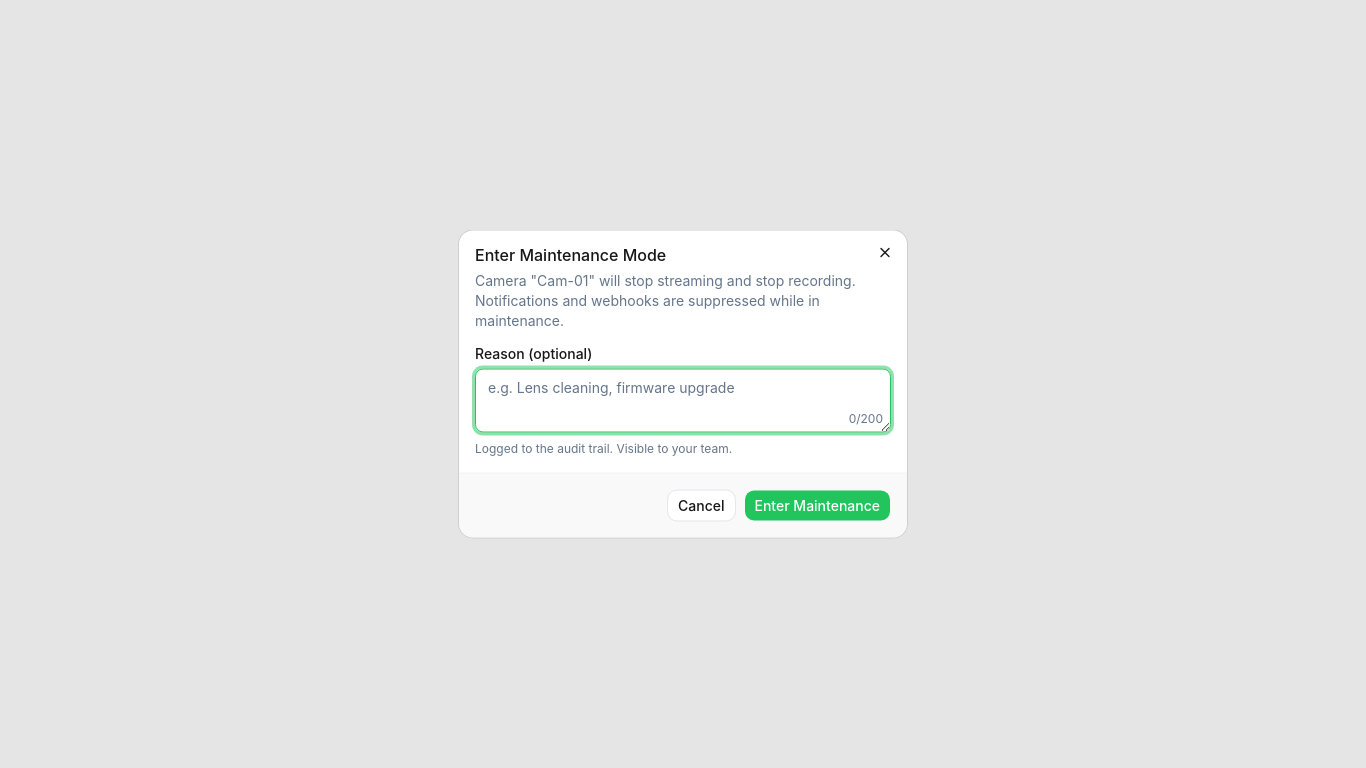
Scenario: MaintenanceReasonDialog — textarea + counter › counter reads '5/200' after typing 'hello'
The image size is (1366, 768).
Type "hello" into the text box labelled "Reason (optional)" at (683, 400), box [475,368,891,432]
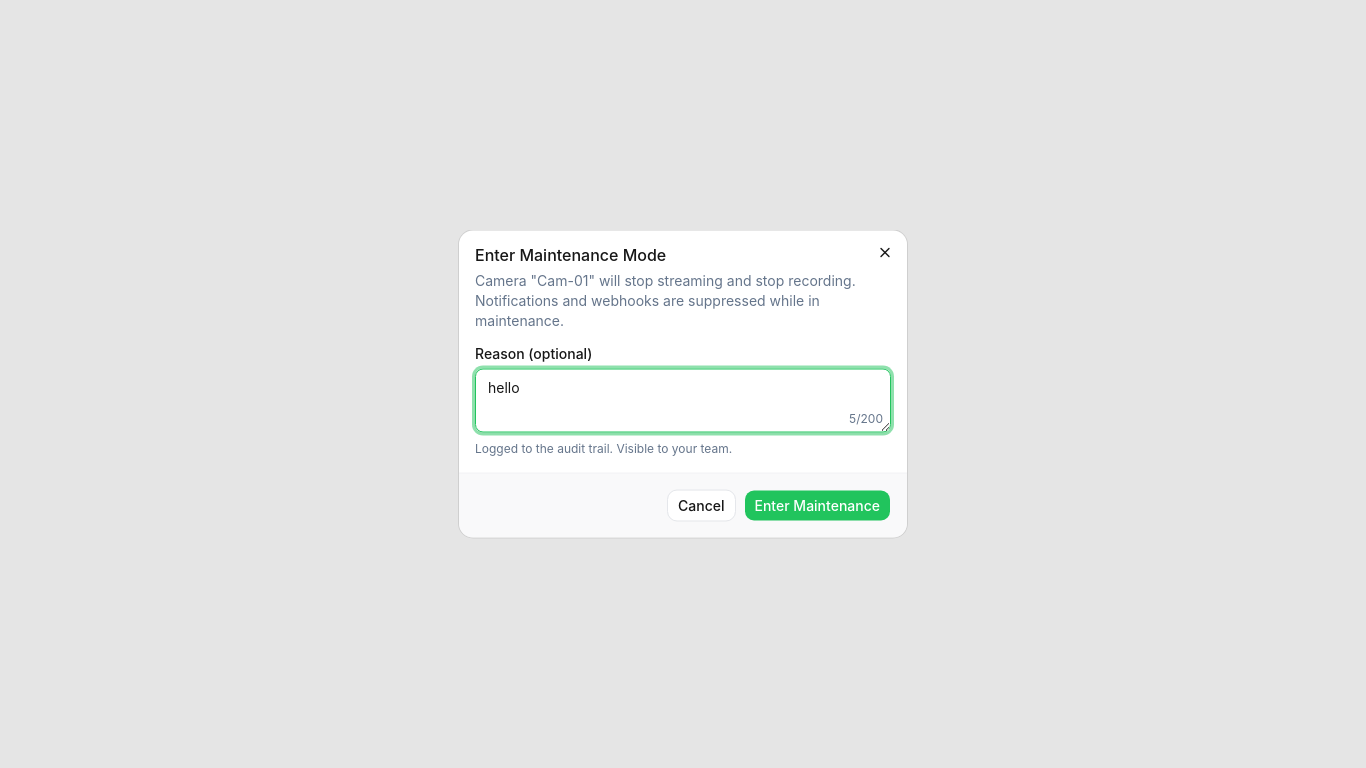
Expected: the text "5/200" is shown, [849,410,883,426]
